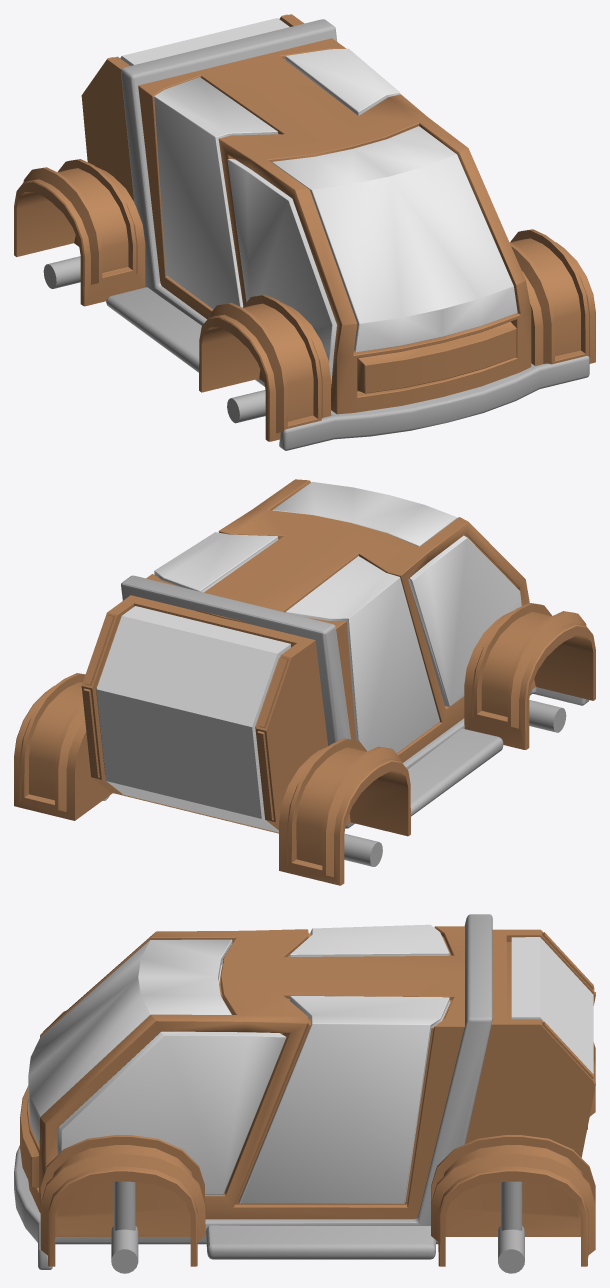
Rendered from Mesh SUV Lowpoly.fbx.
3 views of the same model, one above another, from view 1: azimuth 30°, elevation 25°; view 2: azimuth 150°, elevation 25°; view 3: azimuth 270°, elevation 25° (orthographic). The views are drawn at different scales.
Visible parts, largest first — view 1: Van Chassi; view 2: Van Chassi; view 3: Van Chassi.
Part boxes in pixels (x1,y1,x2,y2): Van Chassi: [14, 14, 595, 450]; Van Chassi: [14, 479, 595, 885]; Van Chassi: [14, 914, 595, 1273].
Size of the model in its own units: 3.19 by 2 by 4.65.
